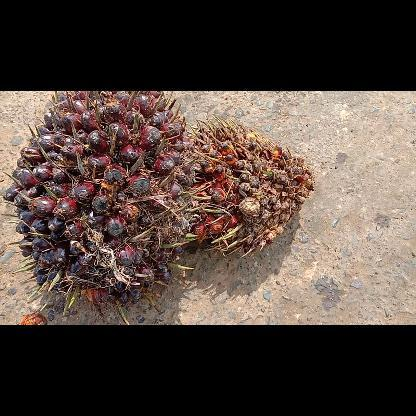Kurang masak: (0, 90, 211, 324)
TBS abnormal: (182, 116, 314, 256)
